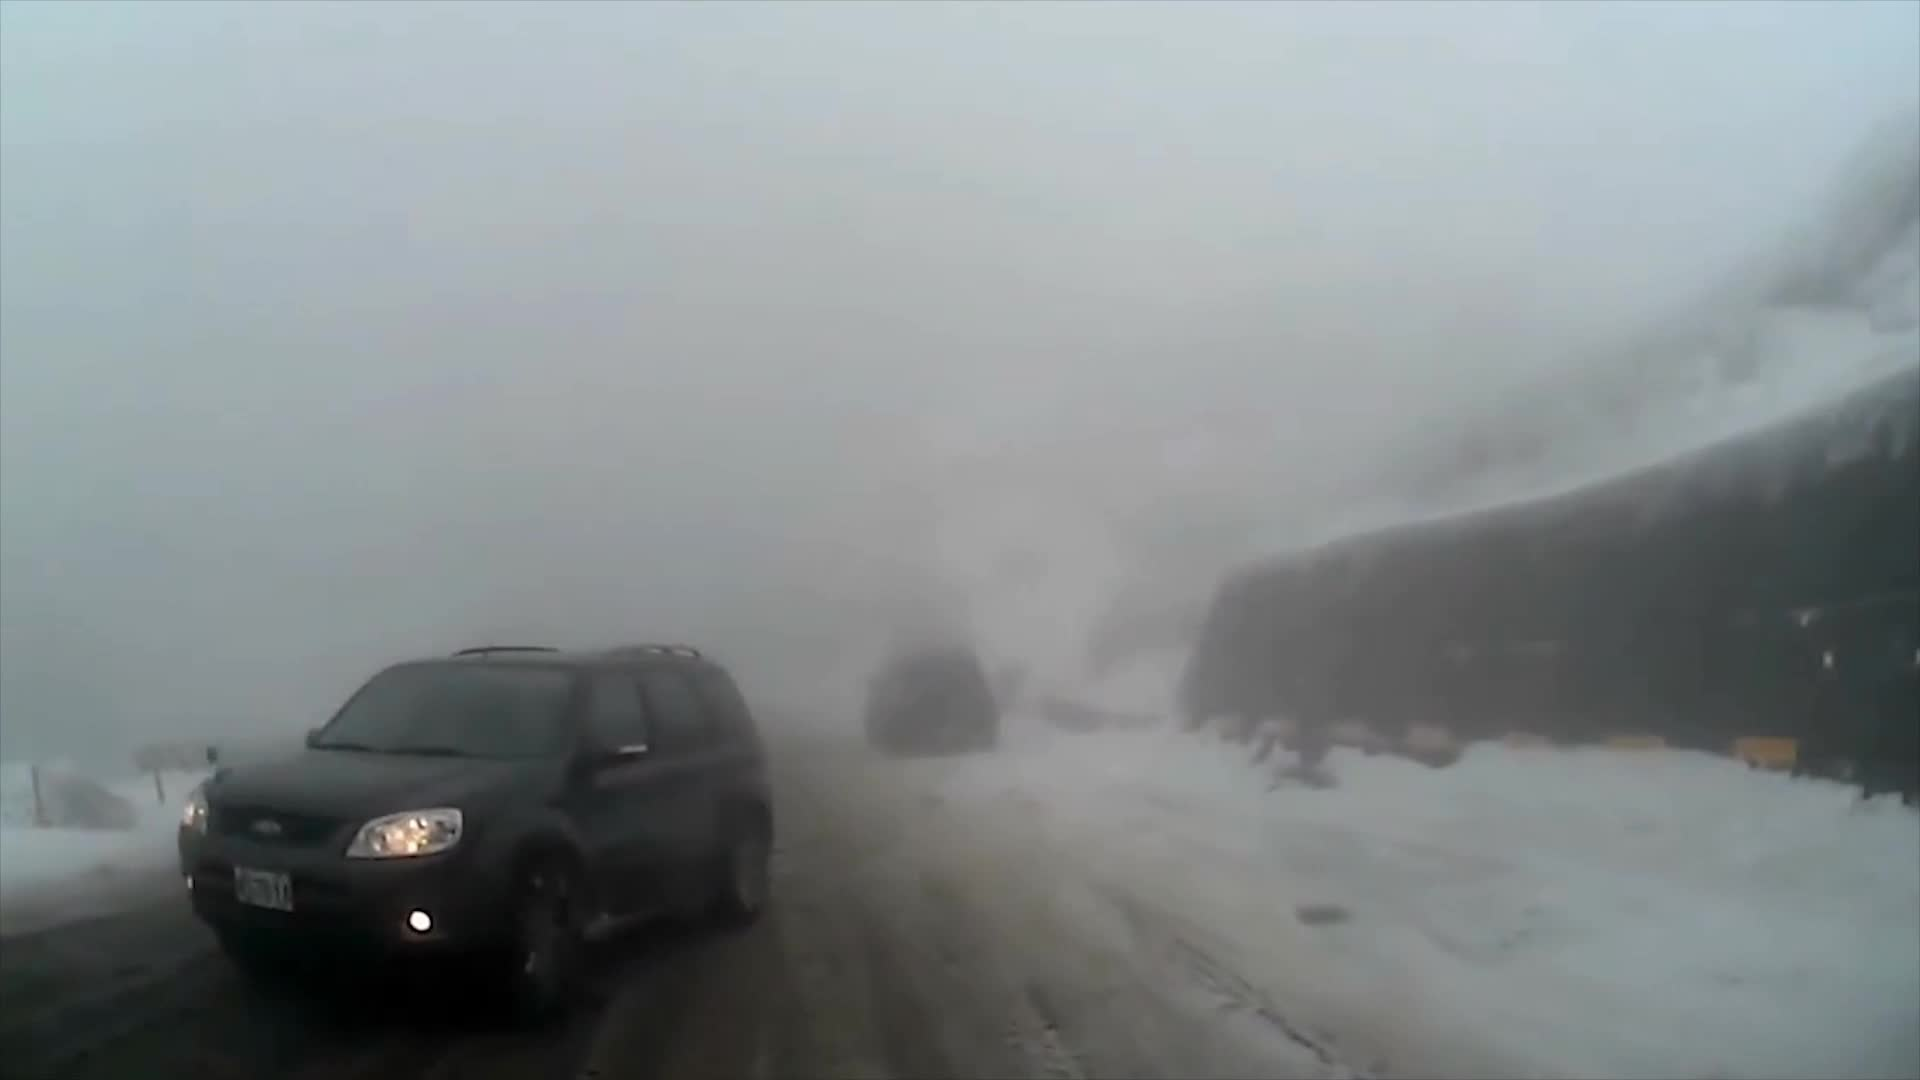vehicle: (175, 636, 778, 1015), (858, 641, 998, 760)
